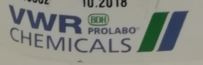VWR: (7, 4, 190, 54)
